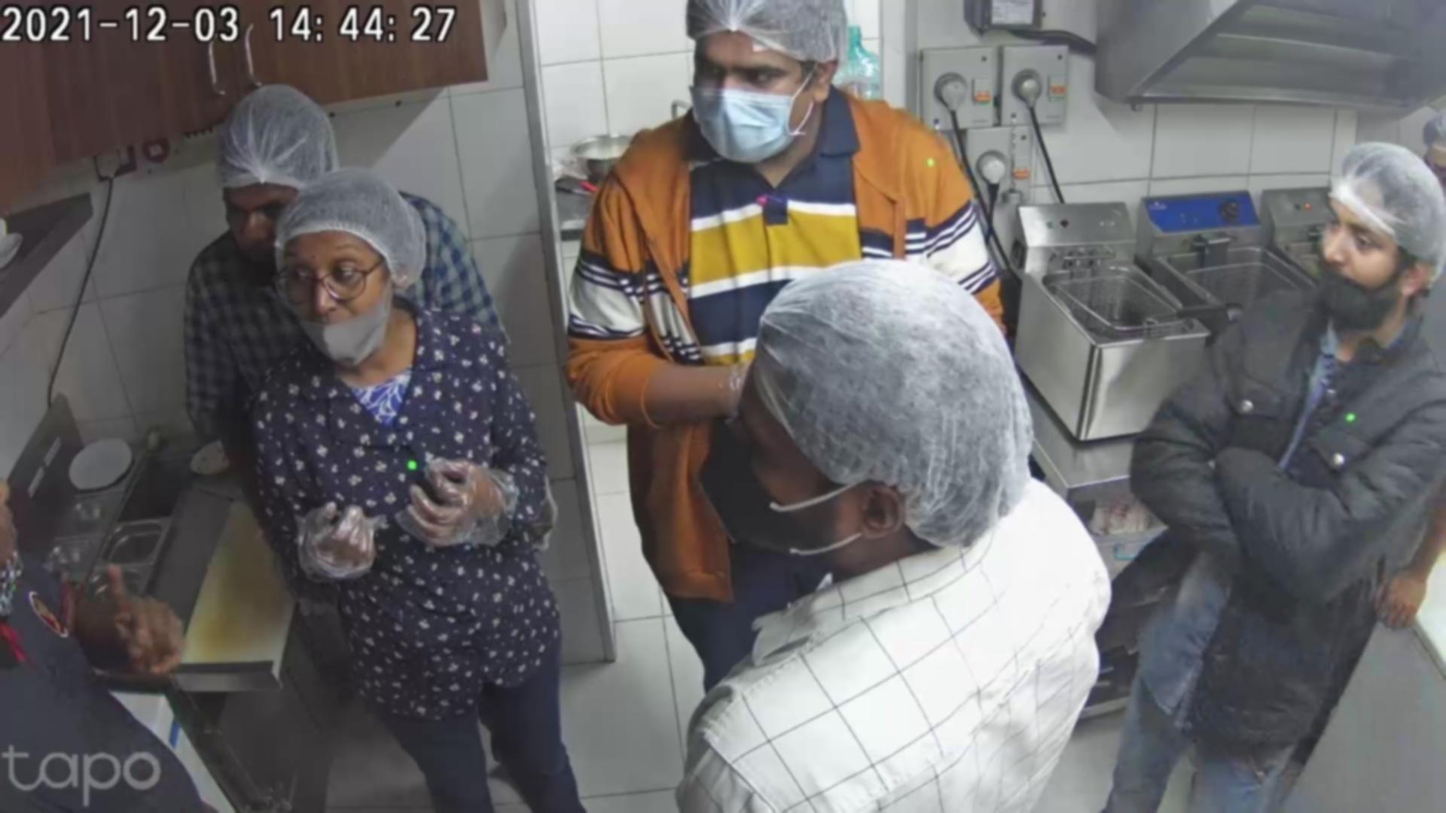apron: (372, 435, 538, 574), (277, 485, 392, 604)
gloves: (734, 263, 1031, 536), (282, 151, 444, 293), (1311, 133, 1446, 281), (179, 81, 347, 194), (668, 3, 859, 79)
mask: (684, 437, 877, 584), (673, 53, 799, 158)
no_apron: (59, 545, 197, 690), (1359, 540, 1444, 641)
no_hairnet: (273, 245, 378, 353), (1306, 210, 1411, 295), (0, 463, 49, 626), (215, 186, 276, 265)
